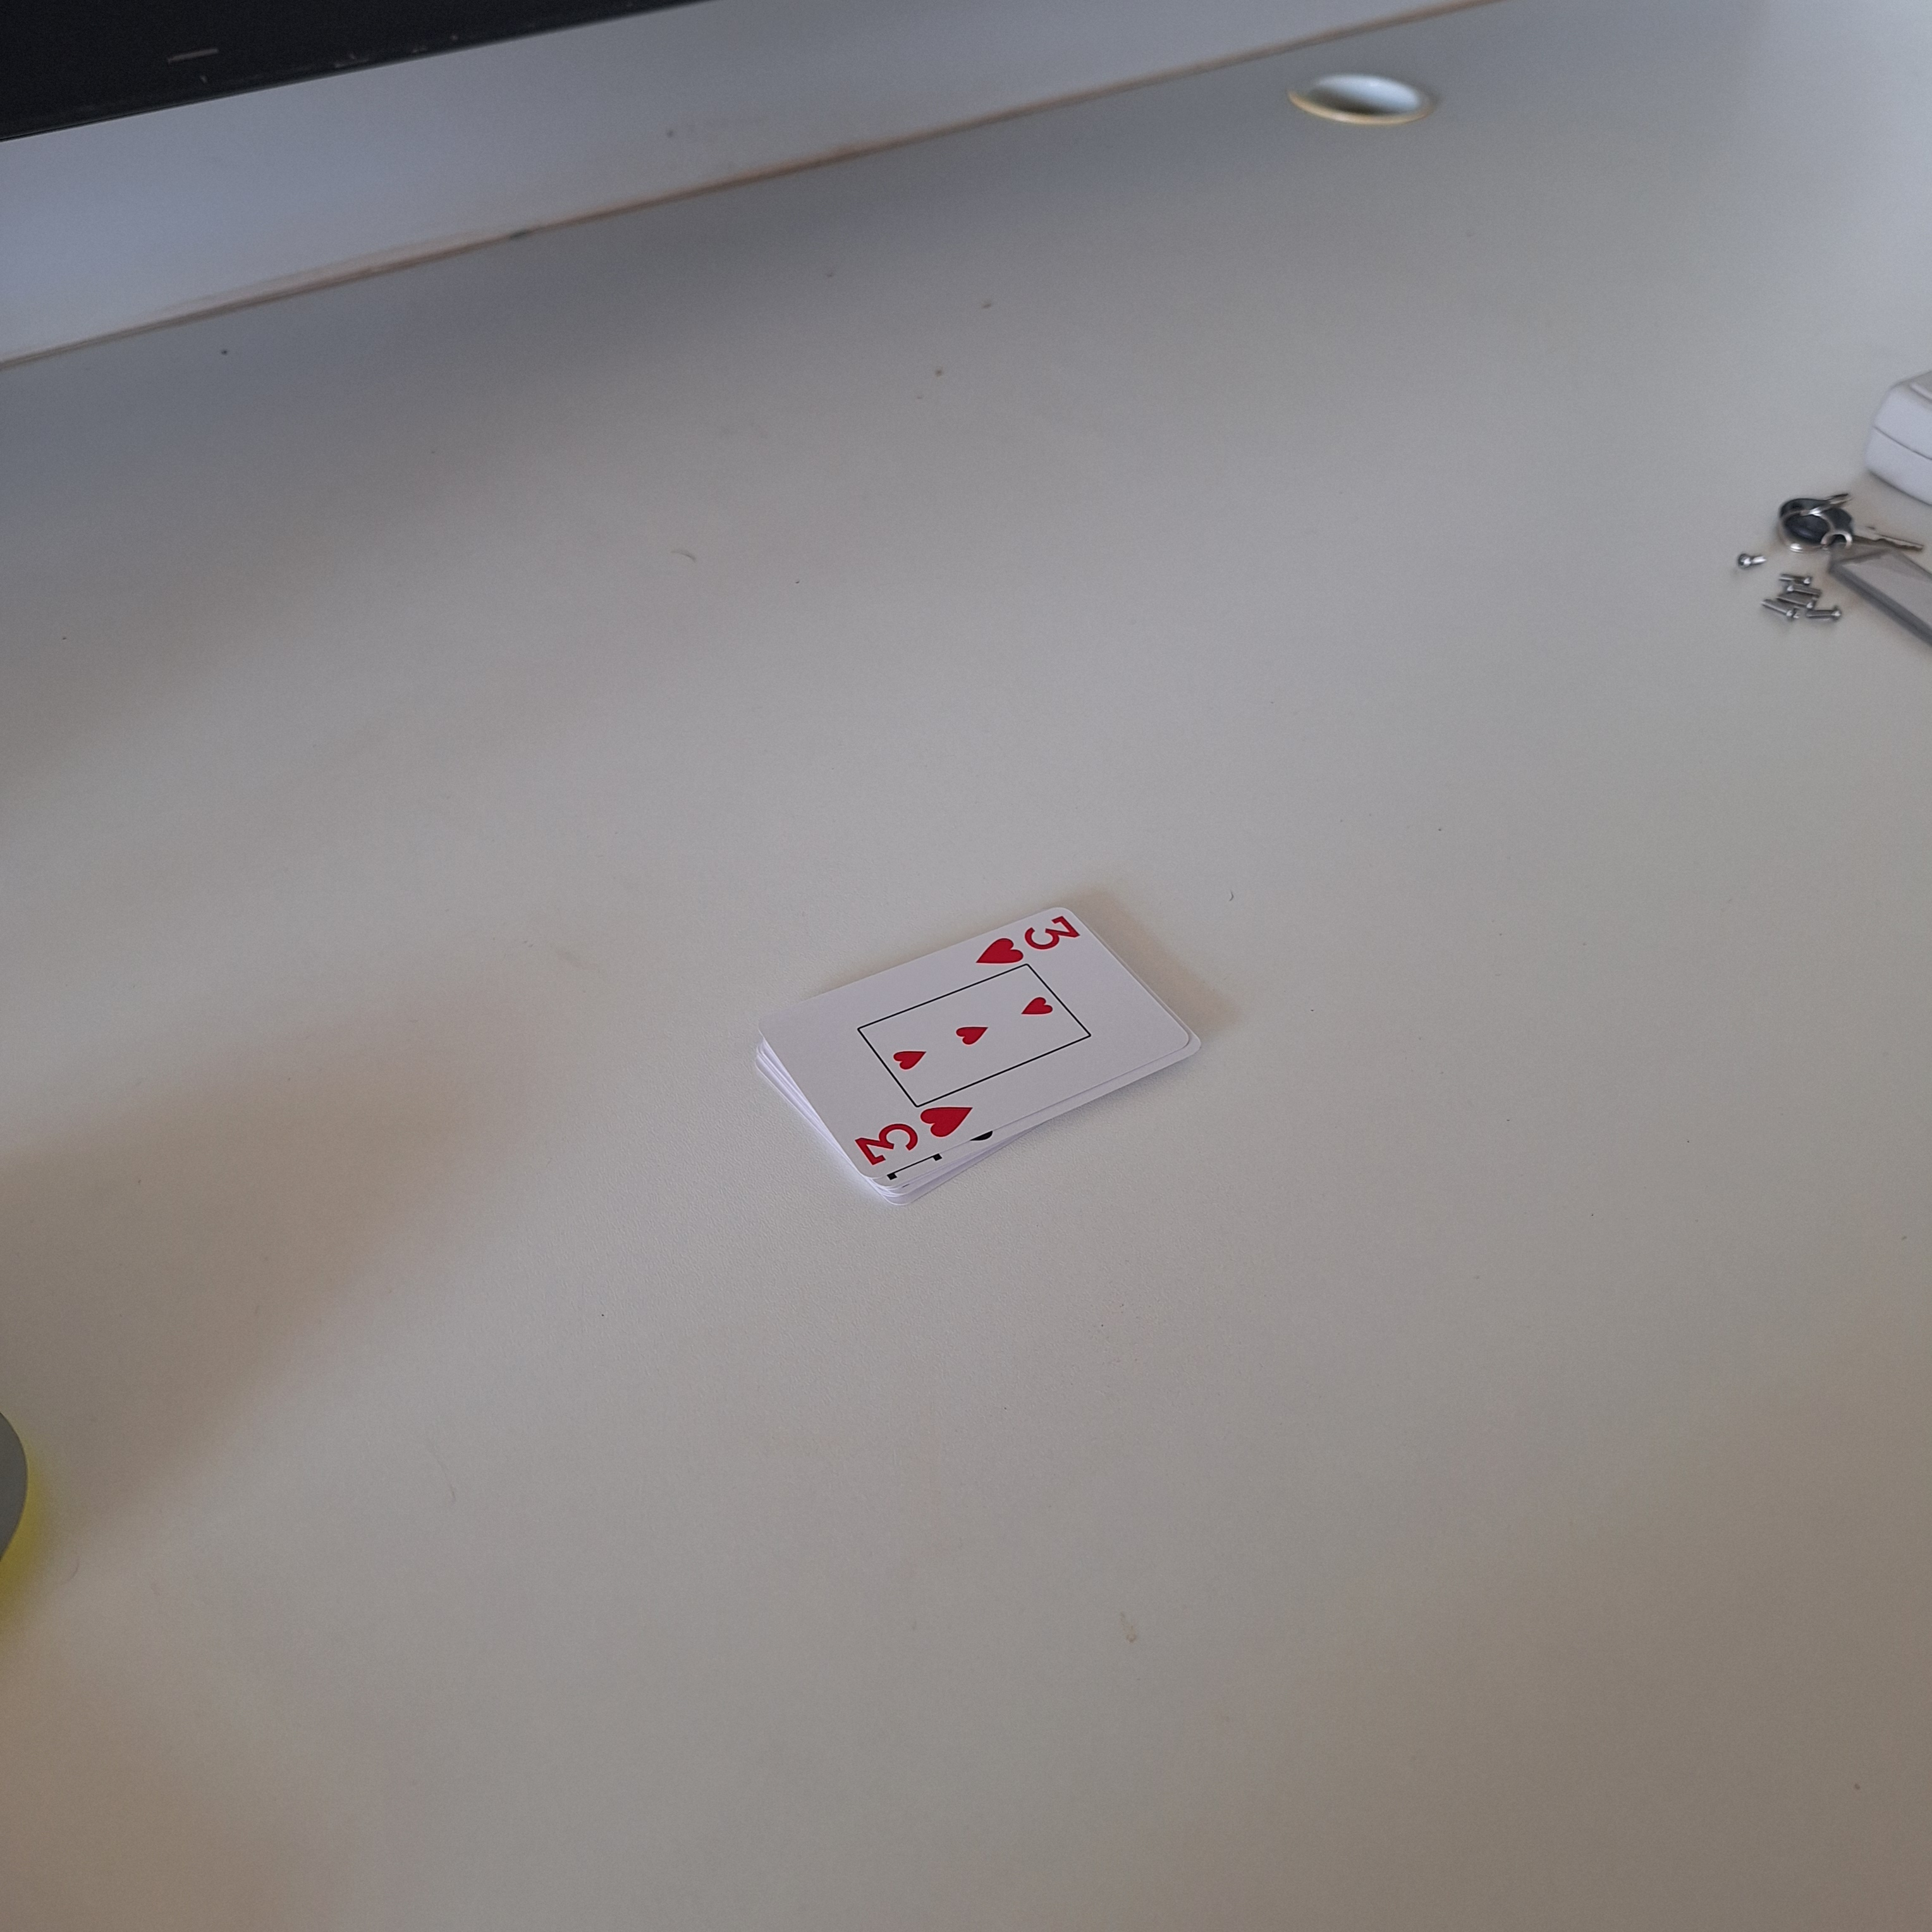3C: (846, 1100, 977, 1175), (966, 908, 1085, 971)
